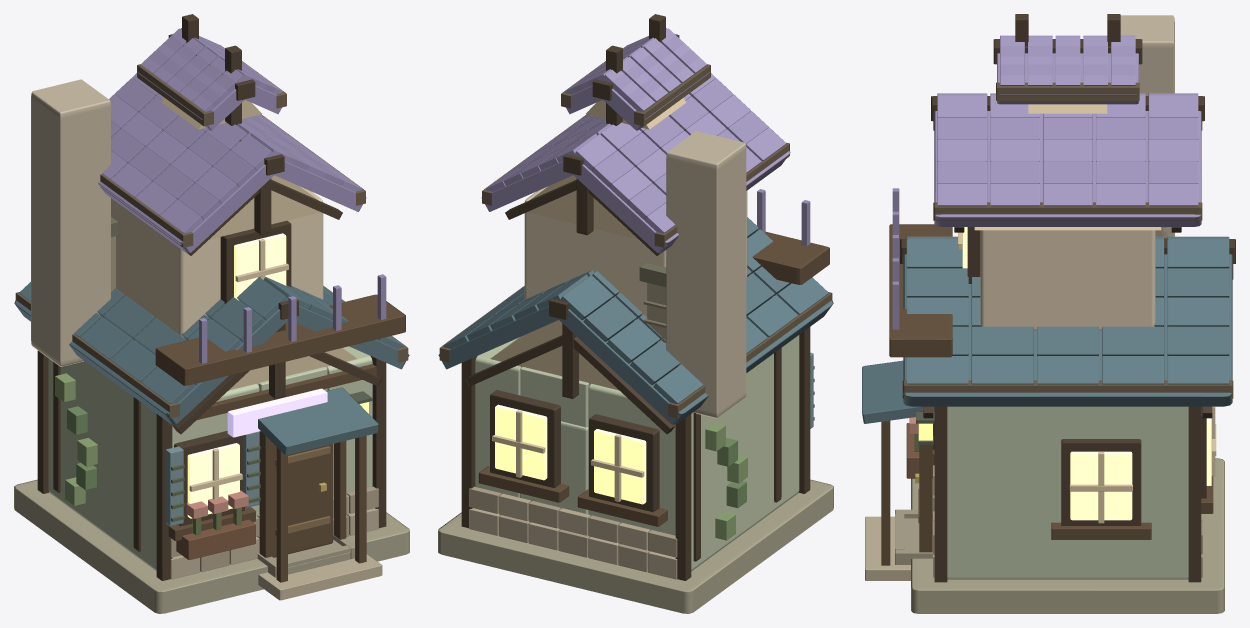
The model's file is workshop-3-2.glb.
3 views of the same model, side by side, from view 1: azimuth 30°, elevation 25°; view 2: azimuth 150°, elevation 25°; view 3: azimuth 270°, elevation 25° (orthographic). The views are drawn at different scales.
Visible parts, largest first — view 1: workshop-2-3, door-hinge; view 2: workshop-2-3; view 3: workshop-2-3.
Part boxes in pixels (box(x1,y1,x2,y2)): workshop-2-3: box(14, 14, 409, 613); door-hinge: box(271, 442, 333, 557); workshop-2-3: box(438, 14, 833, 613); workshop-2-3: box(862, 14, 1235, 613).
Bounding box in the file's own units: 1.91 × 3.51 × 2.24.
